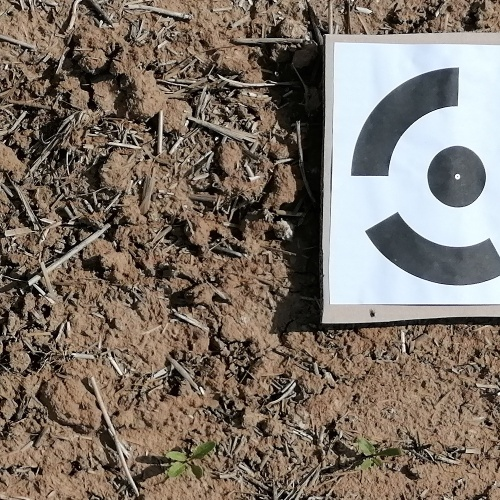beet: (163, 442, 216, 479), (356, 438, 401, 470)
